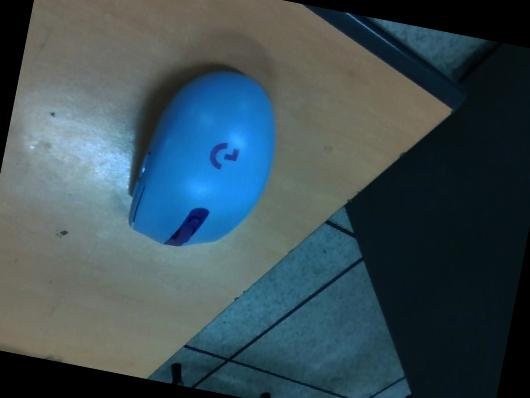mouse: (126, 65, 275, 246)
